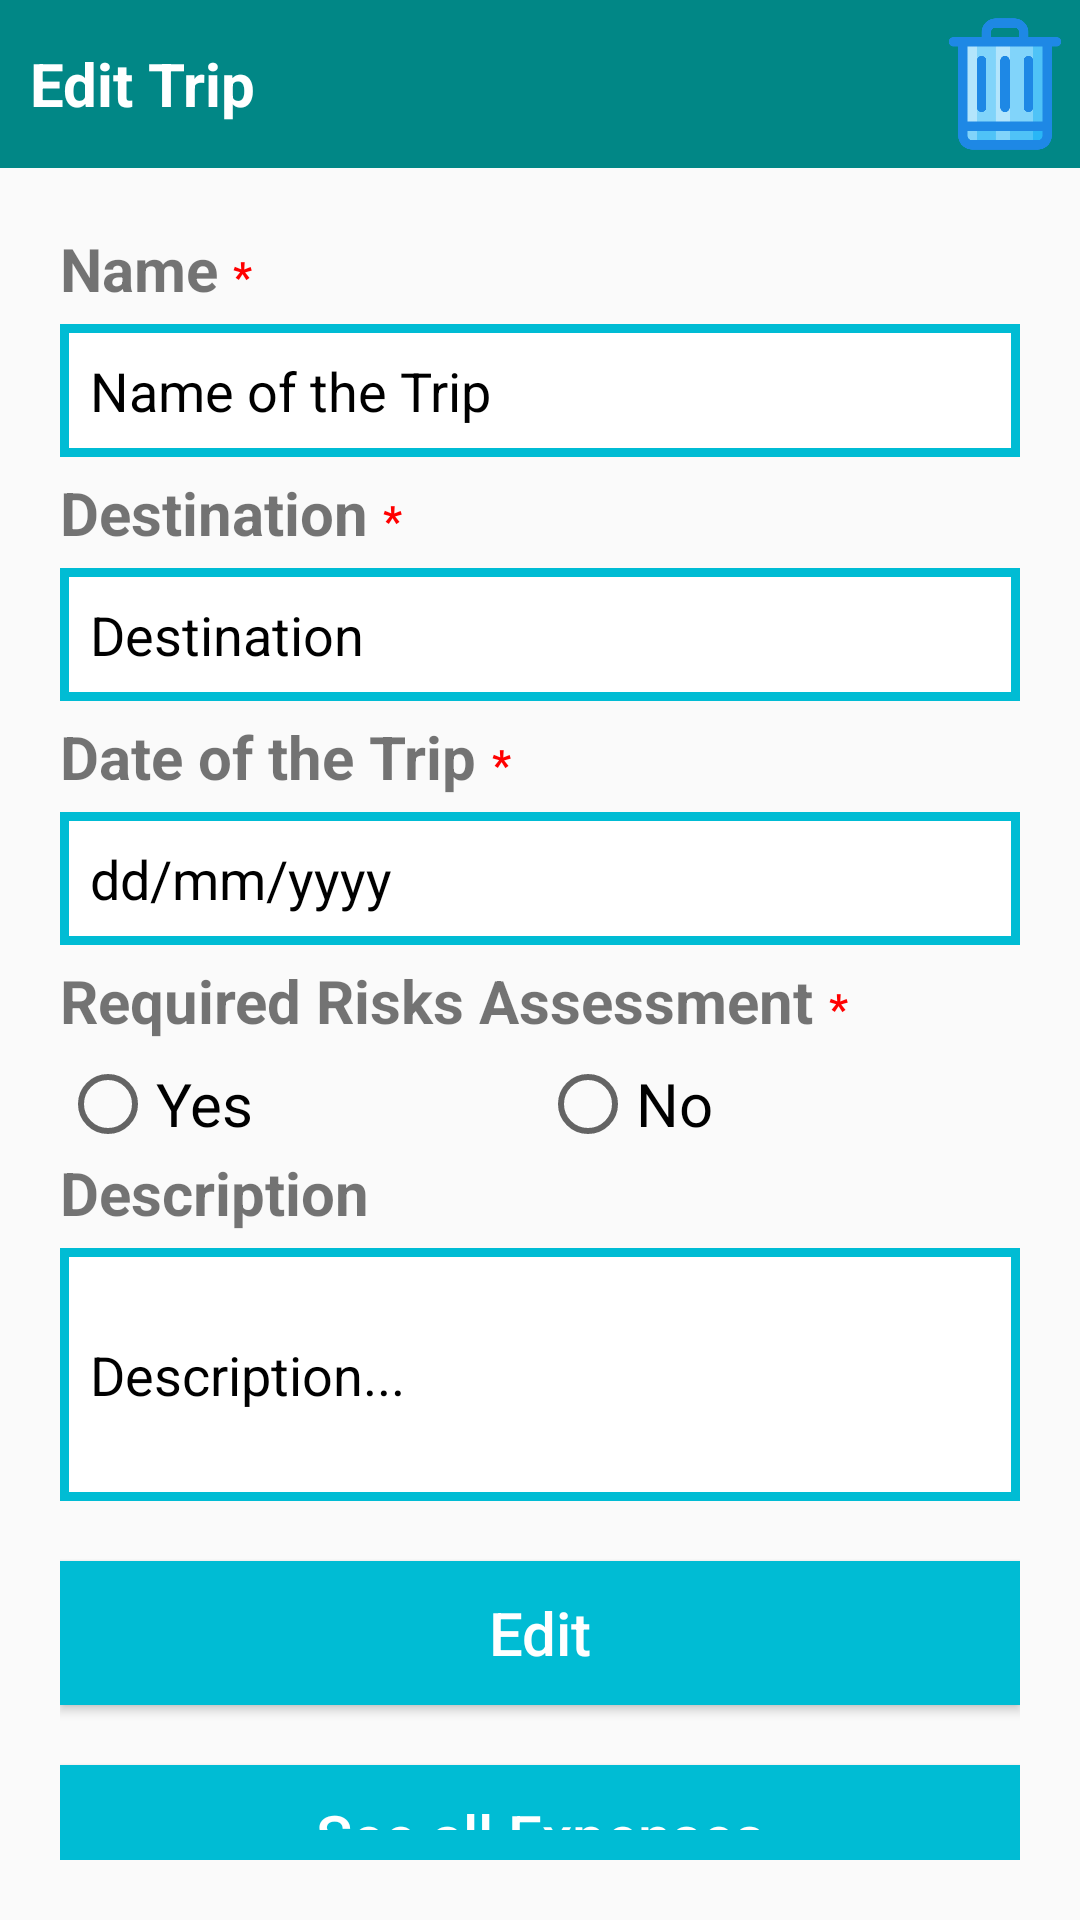

Named icons in this screenshot (1080×1920) and their centers, point (x, y):
delete: point (1005, 84)
